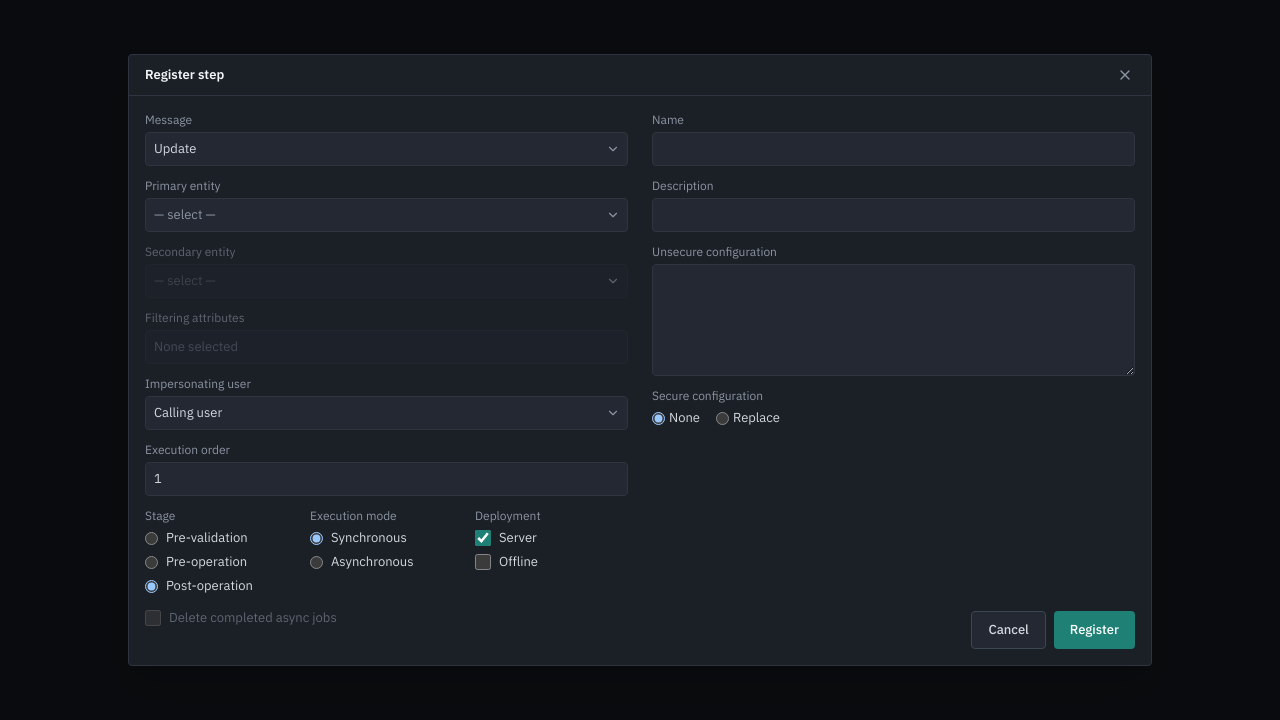
Test: StepDialog › disables async auto-delete while the step is synchronous
The width and height of the screenshot is (1280, 720).
Expected: the field labelled "Name" is shown, [652,132,1135,166]
Expected: the checkbox labelled "Delete completed async jobs" is disabled, [145,610,161,626]
Click the radio button labelled "Pre-operation" at coordinates (152, 562), box [145,556,158,568]
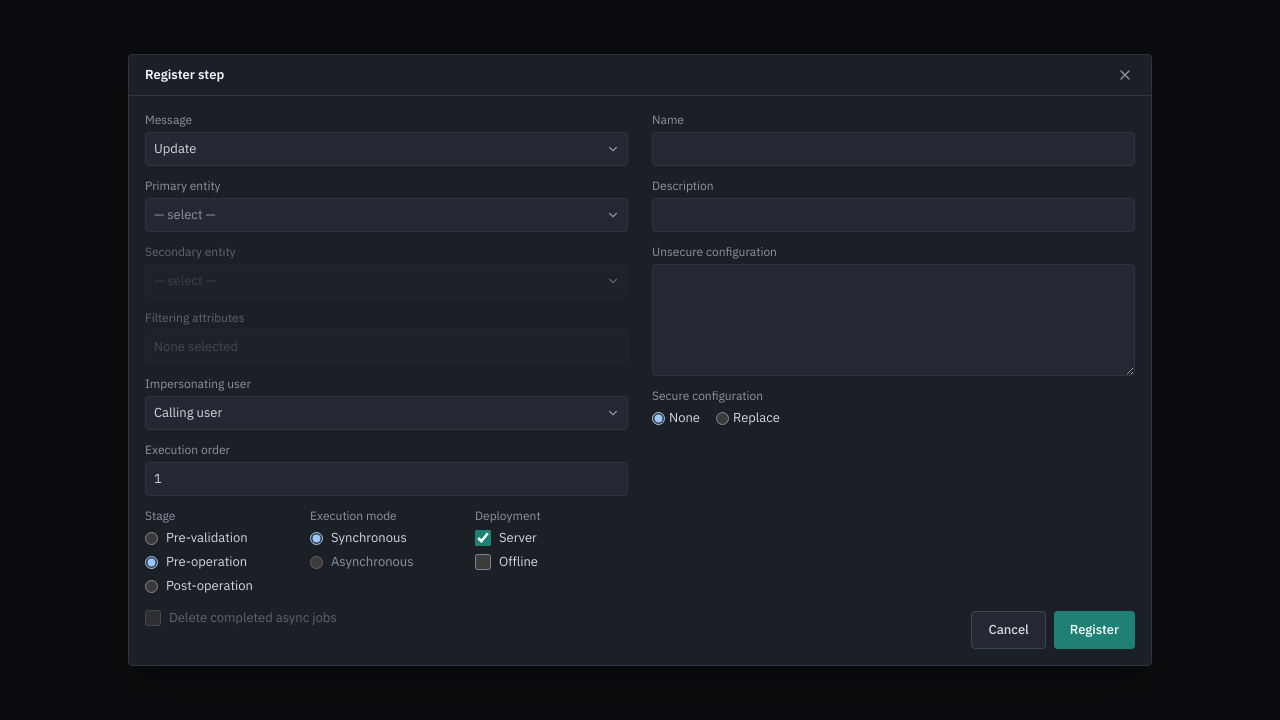
Now the radio button labelled "Asynchronous" is disabled, box [310,556,323,568]
